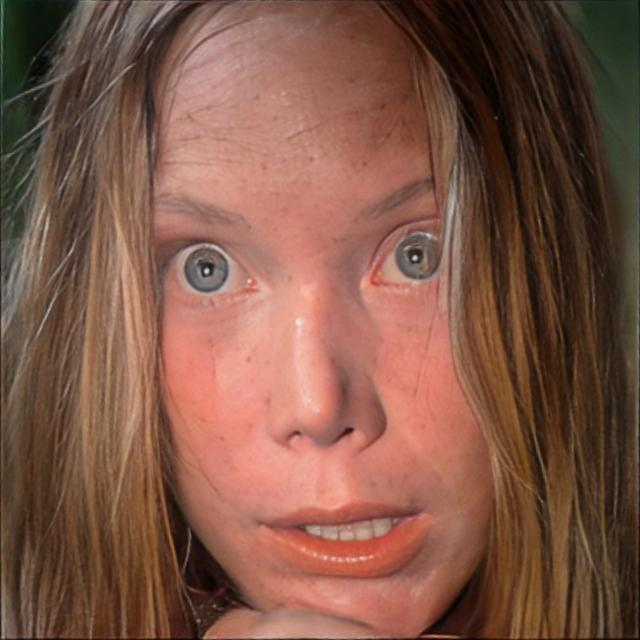fear: (158, 0, 512, 640)
